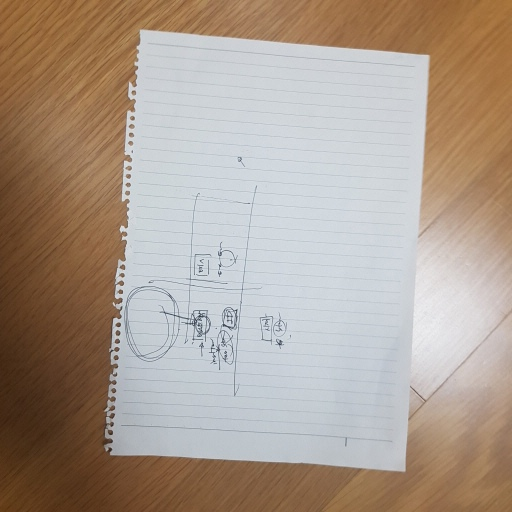Paper_2: (104, 20, 427, 491)
